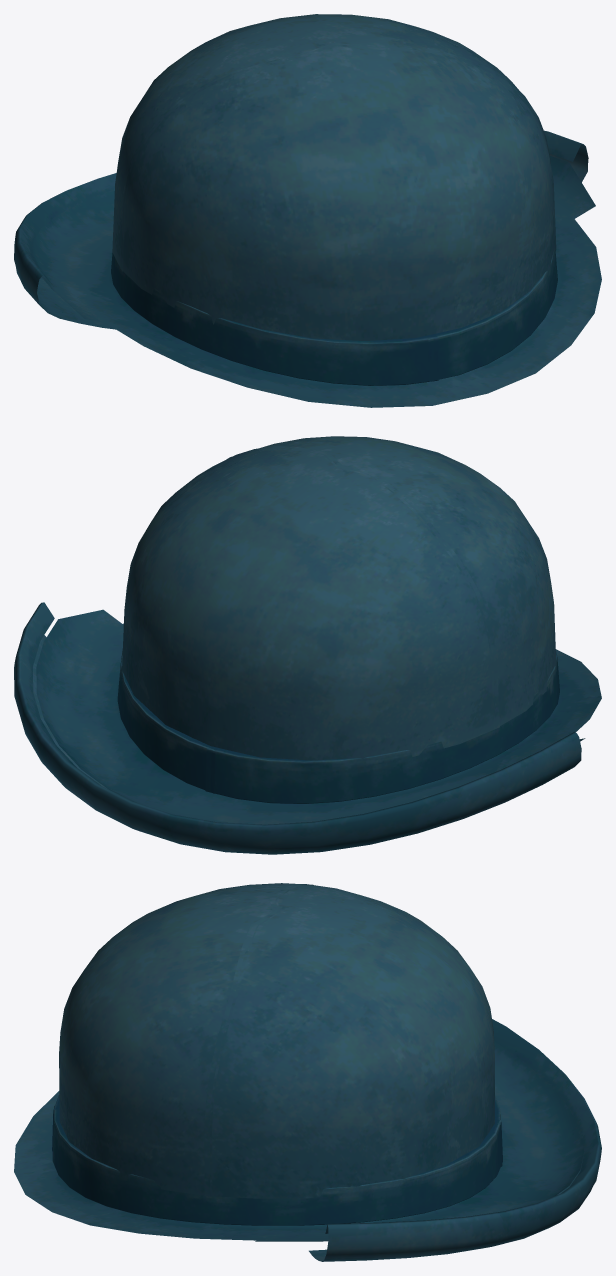
The model's file is jungblue.fbx.
3 views of the same model, one above another, from view 1: azimuth 30°, elevation 25°; view 2: azimuth 150°, elevation 25°; view 3: azimuth 270°, elevation 25° (orthographic). The views are drawn at different scales.
Parts seen in each view (by area): view 1: node_id5; view 2: node_id5; view 3: node_id5.
Part boxes in pixels (x1=…): node_id5: x1=14, y1=14, x2=601, y2=407; node_id5: x1=14, y1=436, x2=601, y2=854; node_id5: x1=14, y1=883, x2=601, y2=1261.
Bounding box in the file's own units: 0.512 × 0.2453 × 0.4824.
Materials: 1 (1 with a texture image).
